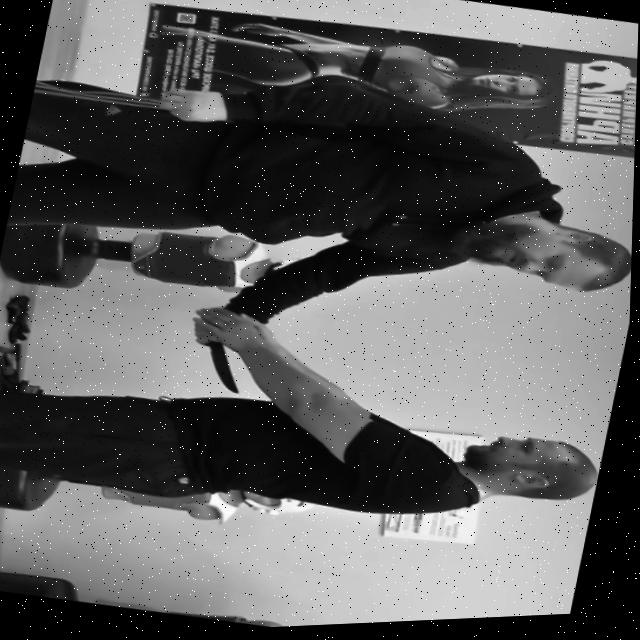knife: (196, 342, 252, 398)
